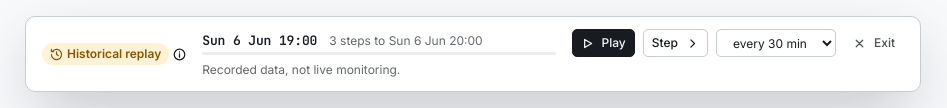
Test case: replay dock › creates one replay from the twin's moment and steps it forward, feeding the page's cache
This screenshot has width=947, height=108.
Step 1. Click the button with aria-label "Step forward one interval" → x=675, y=43, box [643, 29, 708, 57]
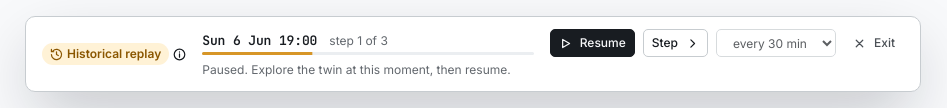
Step 2. Click the button with aria-label "Step forward one interval" → x=675, y=43, box [643, 29, 708, 57]
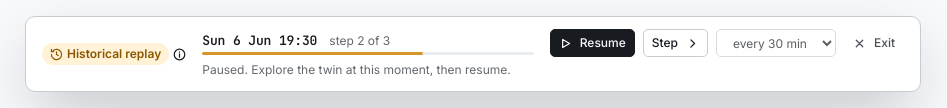
Check: the text "step 2 of 3" is shown, box [329, 33, 390, 48]
